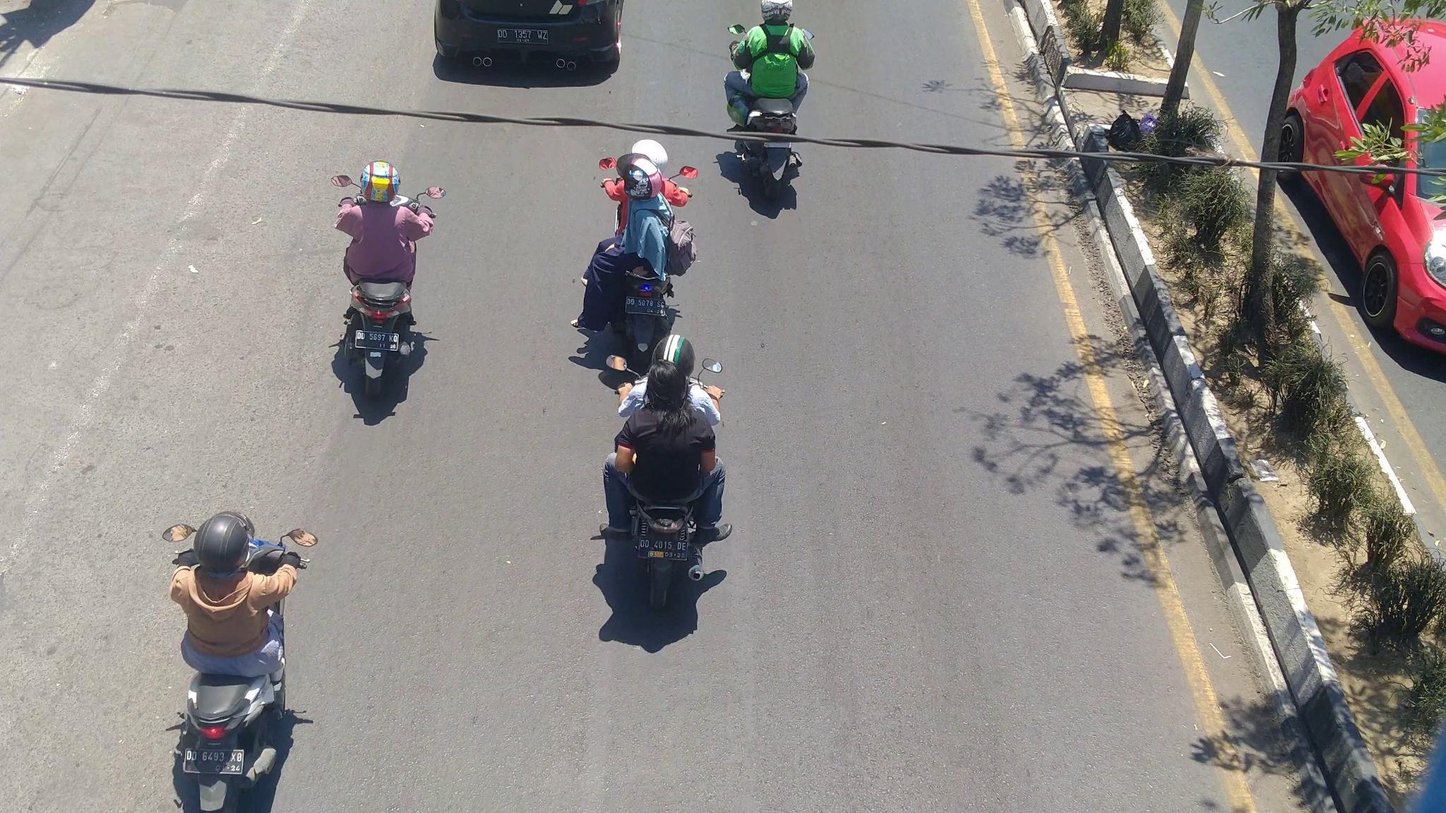Helmet: (190, 500, 261, 582), (646, 329, 702, 387), (615, 148, 663, 201), (358, 155, 404, 208), (626, 134, 672, 176), (748, 0, 800, 29)
bike: (160, 518, 320, 813), (602, 343, 732, 613), (331, 168, 446, 398), (590, 150, 701, 354), (725, 22, 817, 197)
no-helmet: (638, 358, 695, 421)
number-plate: (181, 745, 244, 774), (634, 537, 689, 562), (622, 294, 667, 318), (357, 329, 400, 351)
rider: (600, 354, 733, 544), (169, 505, 302, 679), (577, 152, 695, 332), (333, 158, 436, 282), (614, 335, 729, 434), (728, 0, 812, 128), (602, 137, 694, 235)
